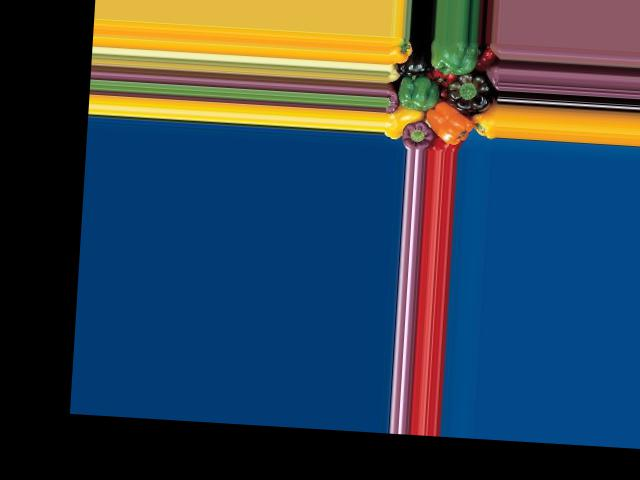bell_pepper: (431, 38, 481, 72)
